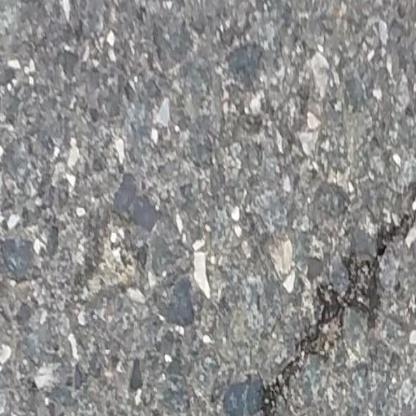Cracks: (258, 152, 416, 416)
